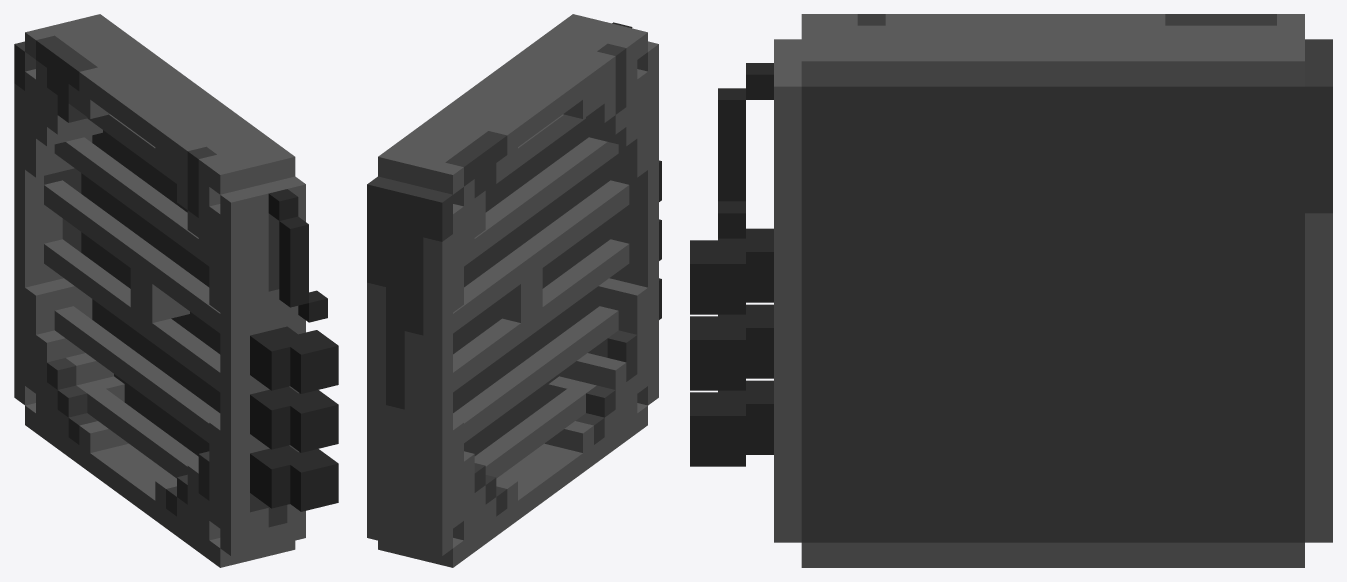
The model's file is Fan0.obj.
The picture shows the model from 3 angles, left to right: view 1: azimuth 30°, elevation 25°; view 2: azimuth 150°, elevation 25°; view 3: azimuth 270°, elevation 25°; orthographic projection. The views are drawn at different scales.
Size of the model in its own units: 0.4 by 2 by 2.3.
Materials: 1 (1 with a texture image).
